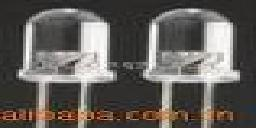LED: (143, 5, 243, 98), (17, 8, 120, 98)
